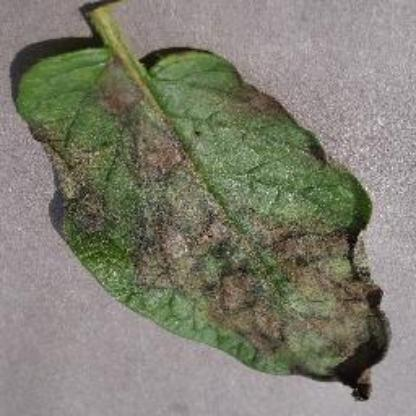Late-Blight: (14, 7, 394, 398)
